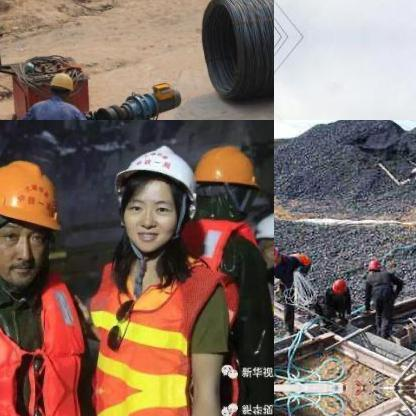Helmet: (106, 136, 198, 256), (0, 153, 63, 287), (194, 138, 258, 222), (46, 70, 76, 98), (328, 276, 350, 294), (364, 256, 384, 270), (274, 241, 281, 261)
